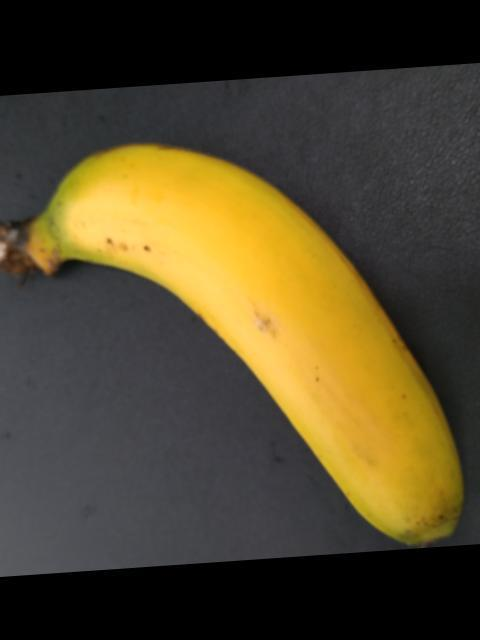freshripe: (40, 128, 479, 575)
